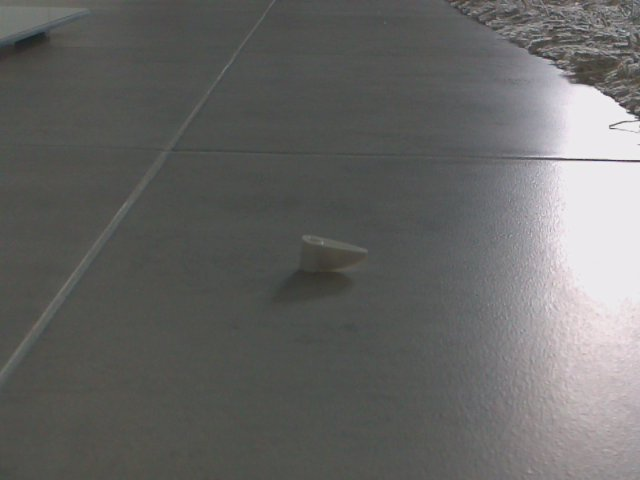Kappe: (295, 231, 375, 281)
